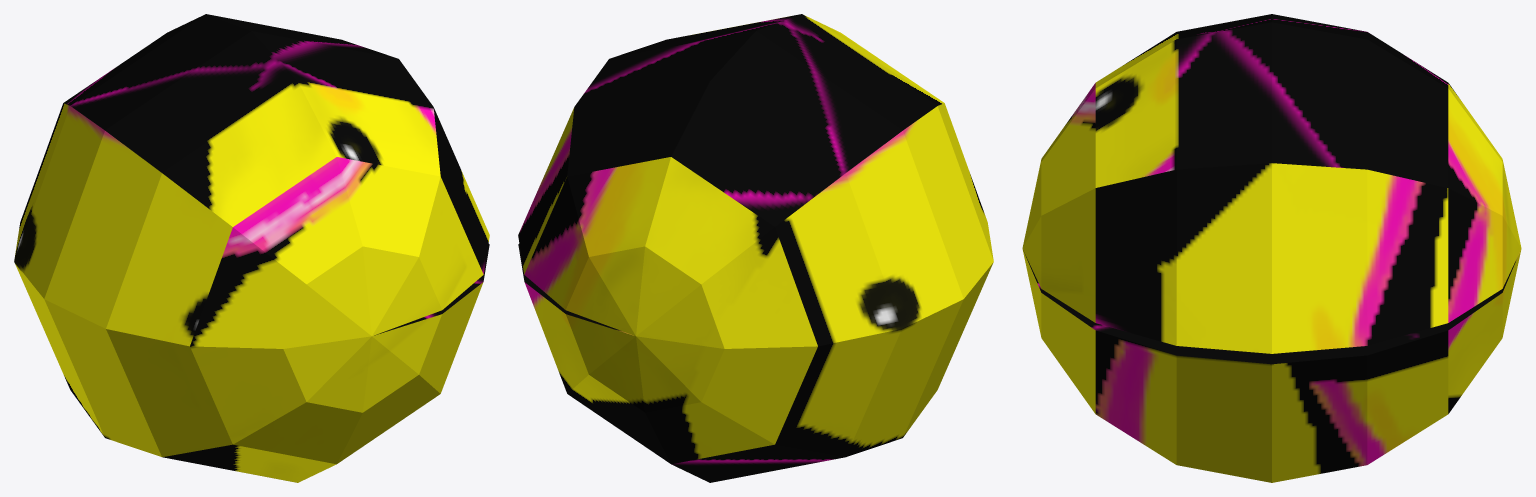
Rendered from pacman1.obj.
3 views of the same model, side by side, from view 1: azimuth 30°, elevation 25°; view 2: azimuth 150°, elevation 25°; view 3: azimuth 270°, elevation 25° (orthographic). The views are drawn at different scales.
Visible parts, largest first — view 1: Sphere; view 2: Sphere; view 3: Sphere.
Boxes of the visible parts, left/top/right/bottom form: Sphere: left=14, top=14, right=489, bottom=482; Sphere: left=518, top=14, right=993, bottom=482; Sphere: left=1022, top=14, right=1521, bottom=482.
Size of the model in its own units: 2 by 2 by 2.
